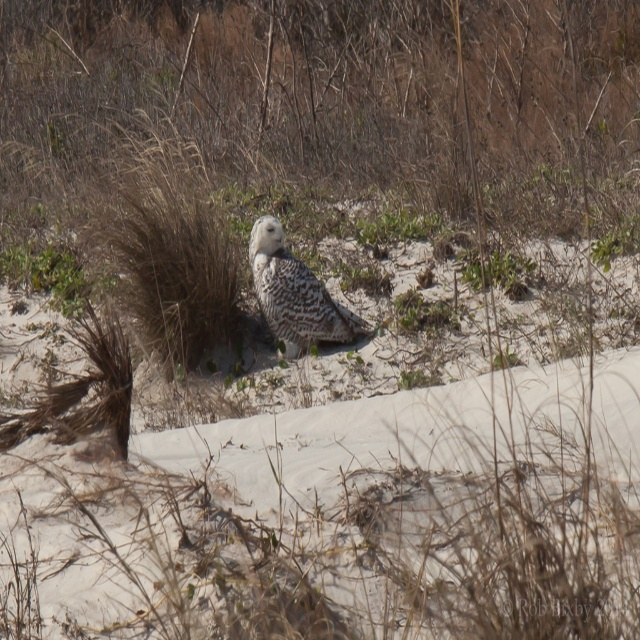Owl: (243, 212, 379, 360)
